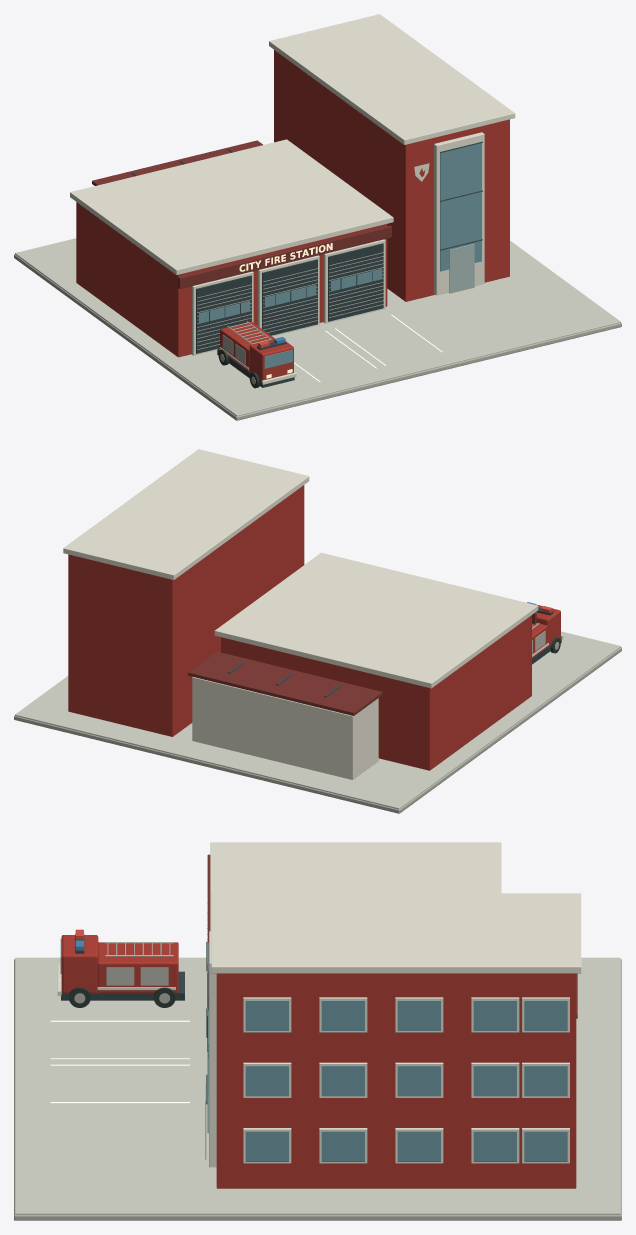
Rendered from fire-station.glb.
3 renders of one model, top to bottom at view 1: azimuth 30°, elevation 25°; view 2: azimuth 150°, elevation 25°; view 3: azimuth 270°, elevation 25°, orthographic. The views are drawn at different scales.
Visible parts, largest first — view 1: Paving, HallRoof, ThreeStoreyOffice, OfficeRoof, ApplianceHall, StaircaseGlass, GarageShutter.002, GarageShutter.001, Lot, GarageNameBand, GarageShutter, EntryFrame (+10 smaller); view 2: ThreeStoreyOffice, HallRoof, OfficeRoof, ApplianceHall, Paving, RearServiceWing, ServiceRoof, Lot, EngineCab; view 3: Paving, ThreeStoreyOffice, OfficeRoof, HallRoof, Lot, EngineRearBody, EngineCab, EntryFrame, OfficeSideWindow, OfficeSideWindow.001, OfficeSideWindow.002, OfficeSideWindow.003 (+14 smaller).
Boxes of the visible parts, x1,y1,x2,y2 form: Paving: (15,238,620,416); HallRoof: (70,139,393,274); ThreeStoreyOffice: (274,50,509,301); OfficeRoof: (269,14,515,144); ApplianceHall: (76,202,387,357); StaircaseGlass: (440,143,481,271); GarageShutter.002: (328,243,383,321); GarageShutter.001: (262,259,317,335); Lot: (14,254,621,420); GarageNameBand: (178,225,391,288); GarageShutter: (196,275,251,353); EntryFrame: (434,132,484,295); ThreeStoreyOffice: (68,485,304,736); HallRoof: (214,552,538,688); OfficeRoof: (63,449,309,579); ApplianceHall: (221,615,531,770); Paving: (15,631,620,809); RearServiceWing: (192,677,378,779); ServiceRoof: (188,651,382,715); Lot: (14,647,621,813); EngineCab: (536,604,560,646); Paving: (15,957,620,1214); ThreeStoreyOffice: (216,973,576,1188); OfficeRoof: (211,893,581,973); HallRoof: (210,842,501,931); Lot: (14,959,621,1220); EngineRearBody: (97,942,178,992); EngineCab: (61,935,98,992); EntryFrame: (209,931,216,1167); OfficeSideWindow: (245,1131,288,1161); OfficeSideWindow.001: (321,1131,364,1161); OfficeSideWindow.002: (397,1131,440,1161); OfficeSideWindow.003: (473,1131,516,1161).
Size of the model in its own units: 24 by 10.07 by 24.
